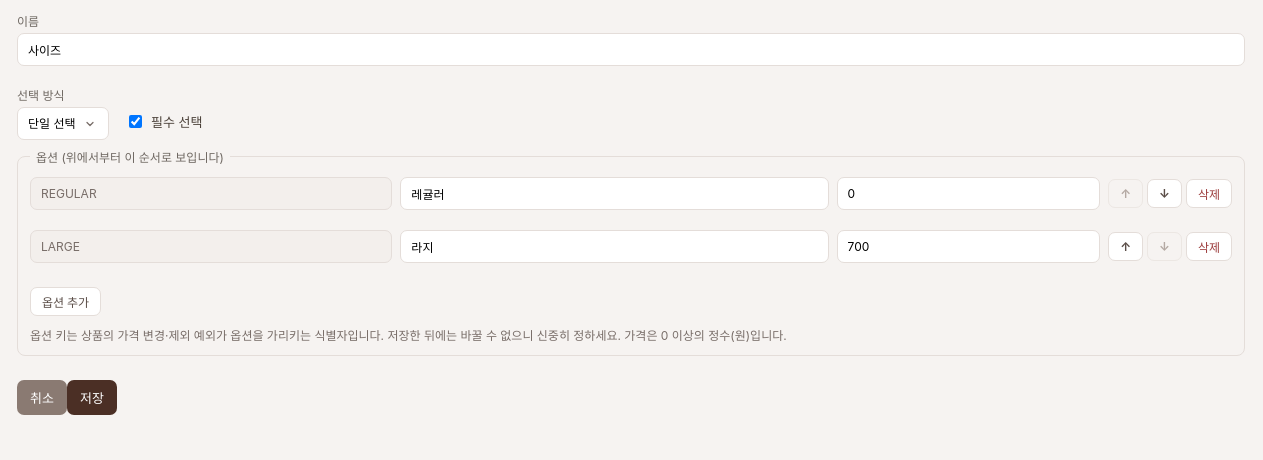
Test: OptionGroupForm 수정 › 옵션 교체가 거부되면 이름도 바꾸지 않고 폼에 안내한다
Type "크기" into the field labelled "이름". click: (631, 50)
box: [17, 33, 1245, 66]
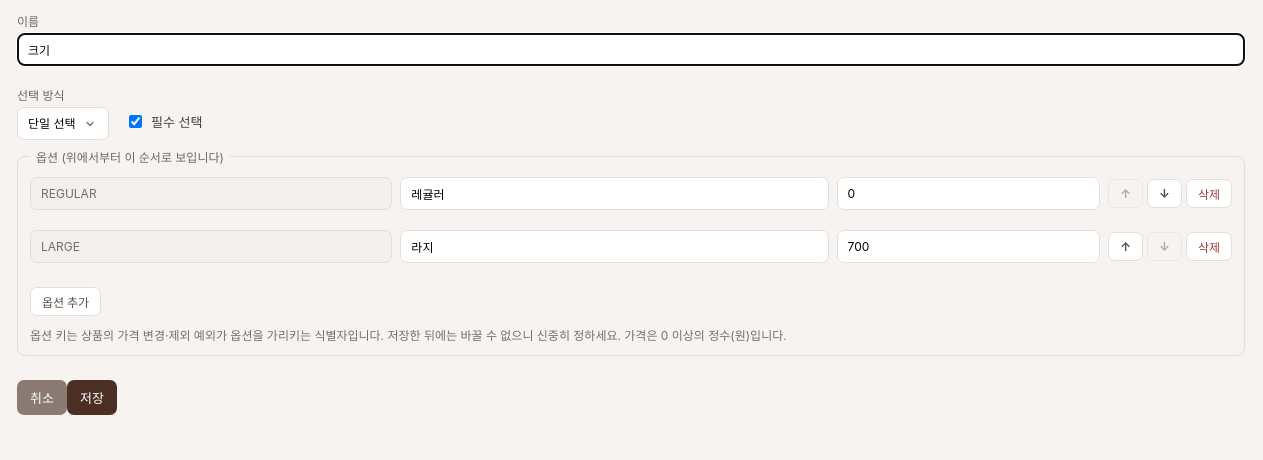
Replace the text in the field named "옵션 2 가격" with "900". click: (968, 246)
box: [837, 230, 1100, 263]
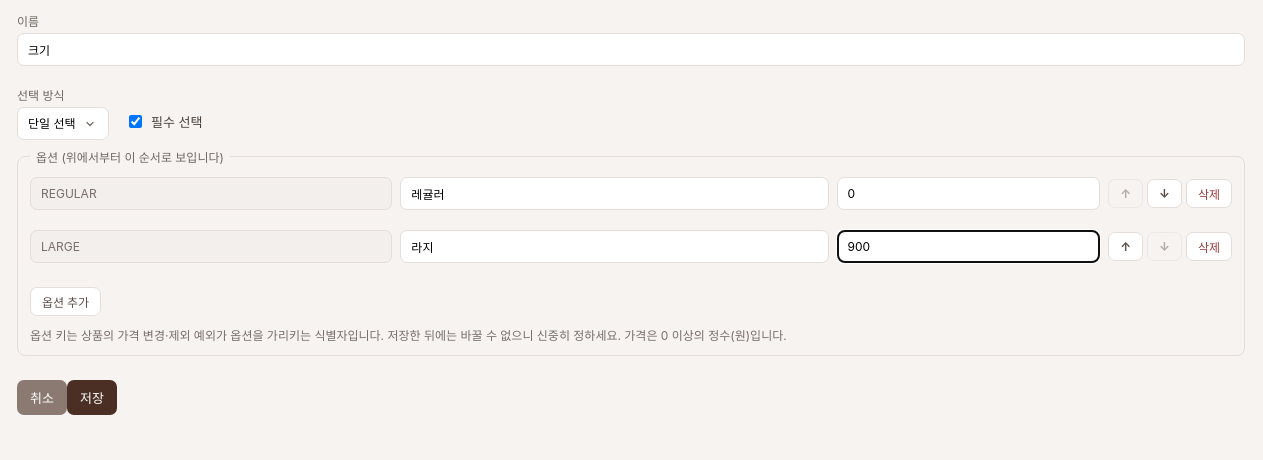
Click the button "저장". click: (92, 398)
box: [67, 380, 117, 415]
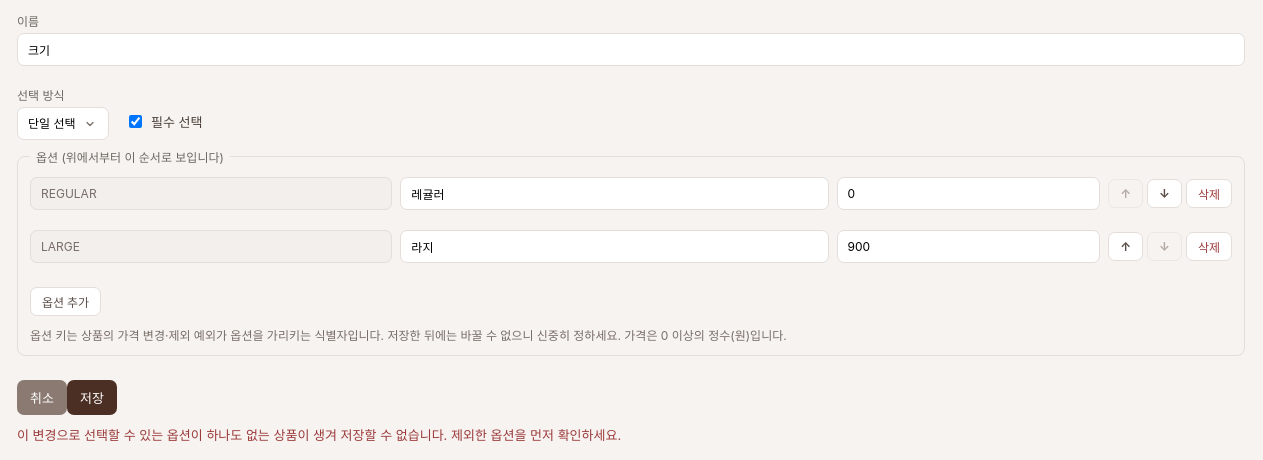
Result: the message shows "선택할 수 있는 옵션이 하나도 없는 상품" at [17, 427, 621, 443]
